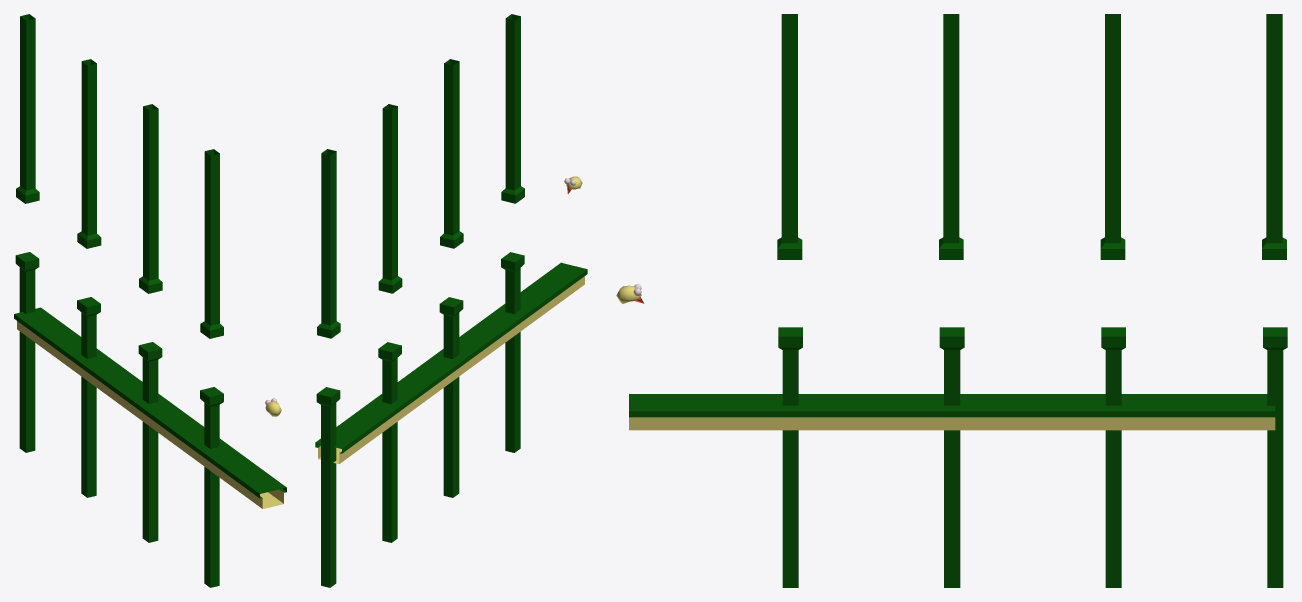
Rendered from Escenario.glb.
3 views of the same model, side by side, from view 1: azimuth 30°, elevation 25°; view 2: azimuth 150°, elevation 25°; view 3: azimuth 270°, elevation 25° (orthographic). The views are drawn at different scales.
Parts seen in each view (by area): view 1: columnas4, columnas2, columnas3, columnas, suelo, suelo4, suelo2, suelo3; view 2: columnas4, columnas2, columnas3, columnas, suelo4, suelo, suelo3, suelo2; view 3: columnas4, columnas, columnas2, columnas3, suelo, suelo4, suelo2, suelo3.
Boxes of the visible parts, <box> form: columnas4: <box>15,14,39,452</box>; columnas2: <box>138,104,162,542</box>; columnas3: <box>77,59,101,497</box>; columnas: <box>200,149,223,587</box>; suelo: <box>198,442,286,508</box>; suelo4: <box>14,307,101,373</box>; suelo2: <box>137,397,224,463</box>; suelo3: <box>75,352,163,418</box>; columnas4: <box>316,149,340,587</box>; columnas2: <box>439,59,463,497</box>; columnas3: <box>378,104,402,542</box>; columnas: <box>501,14,524,452</box>; suelo4: <box>315,397,403,463</box>; suelo: <box>500,262,587,328</box>; suelo3: <box>377,352,464,418</box>; suelo2: <box>438,307,526,373</box>; columnas4: <box>1262,14,1287,587</box>; columnas: <box>777,14,802,587</box>; columnas2: <box>939,14,964,587</box>; columnas3: <box>1100,14,1125,587</box>; suelo: <box>629,394,790,430</box>; suelo4: <box>1113,394,1275,430</box>; suelo2: <box>790,394,952,430</box>; suelo3: <box>952,394,1113,430</box>.
Bounding box in the file's own units: 2.52 × 38.8 × 41.56.
Materials: 4 (4 with a texture image).
